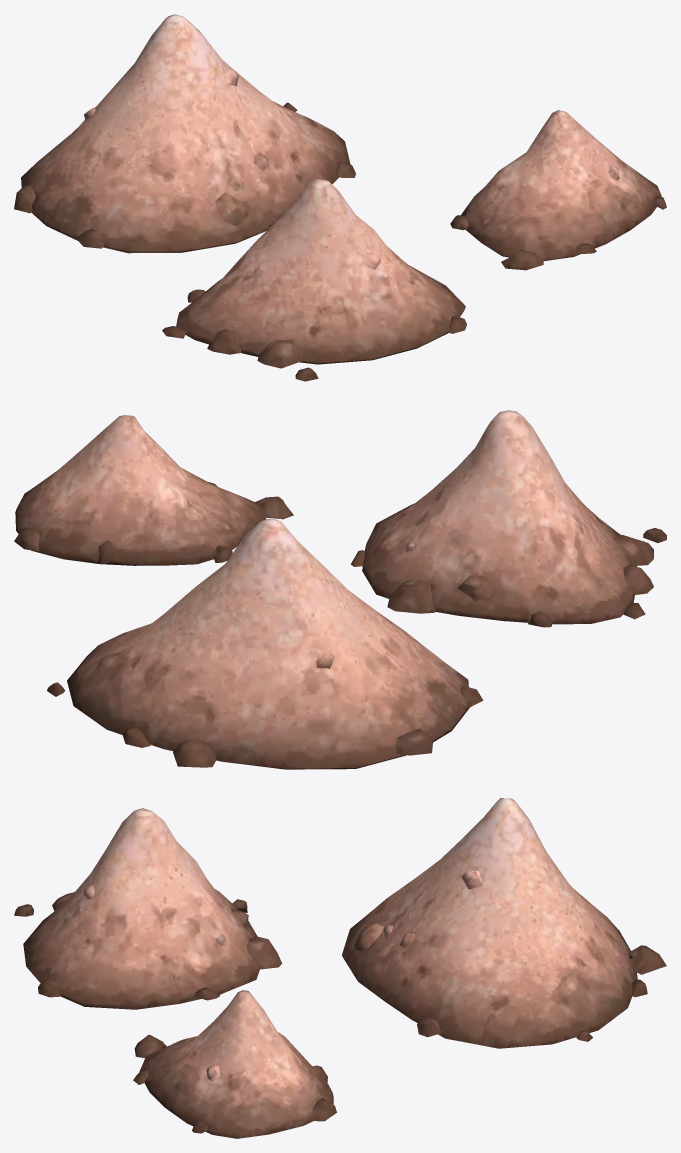
3 renders of one model, top to bottom at view 1: azimuth 30°, elevation 25°; view 2: azimuth 150°, elevation 25°; view 3: azimuth 270°, elevation 25°, orthographic. The views are drawn at different scales.
Parts seen in each view (by area): view 1: SM_Bone_Meal_01_LOD0; view 2: SM_Bone_Meal_01_LOD0; view 3: SM_Bone_Meal_01_LOD0.
Part boxes in pixels (box(x1,y1,x2,y2)): SM_Bone_Meal_01_LOD0: box(14, 14, 666, 381); SM_Bone_Meal_01_LOD0: box(14, 410, 666, 769); SM_Bone_Meal_01_LOD0: box(14, 798, 666, 1138).
Size of the model in its own units: 0.3994 by 0.1211 by 0.4248.
Materials: 1 (1 with a texture image).
